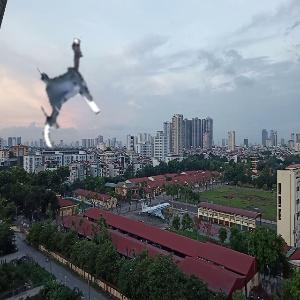drone: (17, 49, 119, 151)
